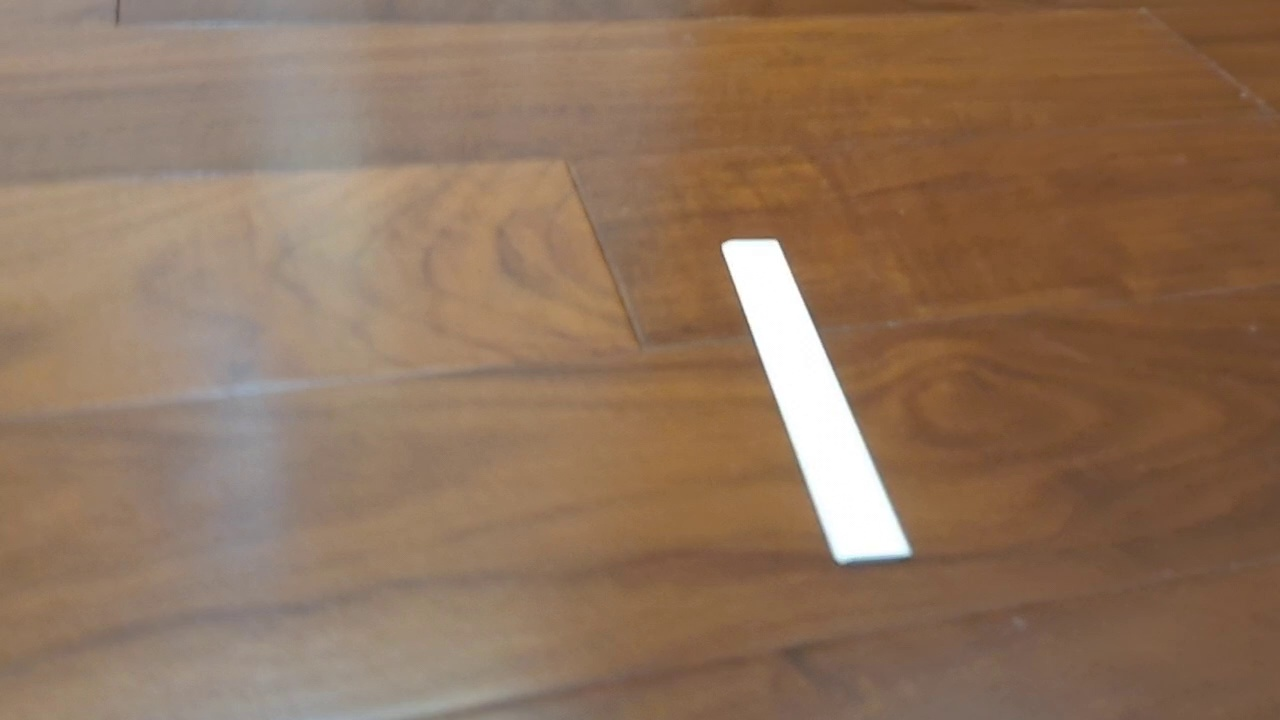ruler: (719, 237, 915, 567)
